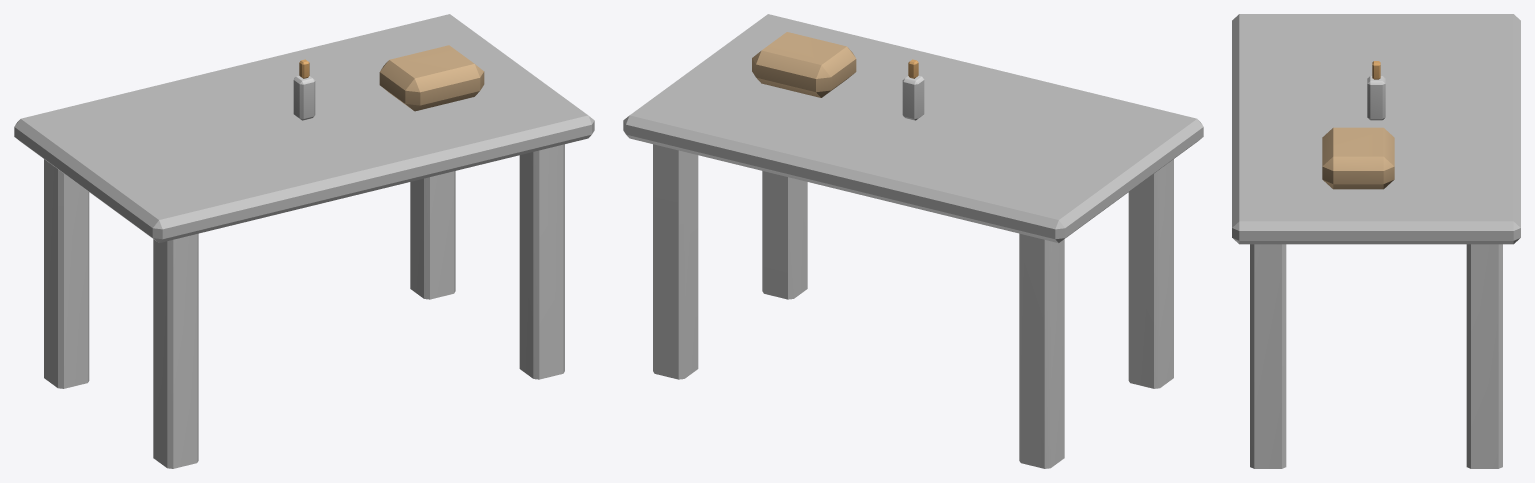
File: home_table.glb
The picture shows the model from 3 angles, left to right: view 1: azimuth 30°, elevation 25°; view 2: azimuth 150°, elevation 25°; view 3: azimuth 270°, elevation 25°; orthographic projection.
Visible parts, largest first — view 1: bread; view 2: bread; view 3: bread.
Part boxes in pixels (x1,y1,x2,y2): bread: (14,14,594,468); bread: (623,14,1203,468); bread: (1232,14,1520,468).
Bounding box in the file's own units: 1.4 × 0.95 × 0.8.
